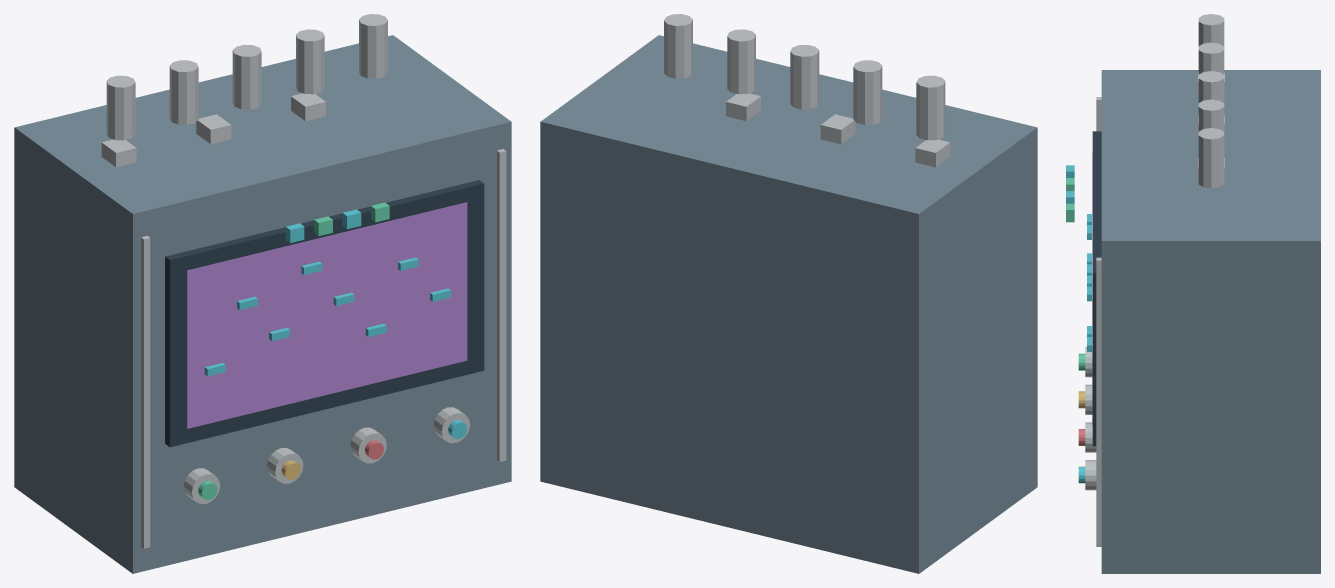
The model's file is 47_L79_BondInterfaceStressMonitor.glb.
3 renders of one model, left to right at view 1: azimuth 30°, elevation 25°; view 2: azimuth 150°, elevation 25°; view 3: azimuth 270°, elevation 25°, orthographic. The views are drawn at different scales.
Parts seen in each view (by area): view 1: BondInterfaceStressMonitor_Node_0000, BondInterfaceStressMonitor_Node_0008, BondInterfaceStressMonitor_Node_0007, BondInterfaceStressMonitor_Node_0006, BondInterfaceStressMonitor_Node_0005, BondInterfaceStressMonitor_Node_0029, BondInterfaceStressMonitor_Node_0030, BondInterfaceStressMonitor_Node_0028, BondInterfaceStressMonitor_Node_0031, BondInterfaceStressMonitor_Node_0032, BondInterfaceStressMonitor_Node_0026, BondInterfaceStressMonitor_Node_0025 (+5 smaller); view 2: BondInterfaceStressMonitor_Node_0000, BondInterfaceStressMonitor_Node_0029, BondInterfaceStressMonitor_Node_0030, BondInterfaceStressMonitor_Node_0028, BondInterfaceStressMonitor_Node_0031, BondInterfaceStressMonitor_Node_0032, BondInterfaceStressMonitor_Node_0026, BondInterfaceStressMonitor_Node_0025, BondInterfaceStressMonitor_Node_0027; view 3: BondInterfaceStressMonitor_Node_0000, BondInterfaceStressMonitor_Node_0007, BondInterfaceStressMonitor_Node_0006, BondInterfaceStressMonitor_Node_0032, BondInterfaceStressMonitor_Node_0029, BondInterfaceStressMonitor_Node_0030, BondInterfaceStressMonitor_Node_0031, BondInterfaceStressMonitor_Node_0028, BondInterfaceStressMonitor_Node_0023.
Part boxes in pixels (bbox=[...]): BondInterfaceStressMonitor_Node_0000: bbox=[14, 35, 511, 573]; BondInterfaceStressMonitor_Node_0008: bbox=[187, 202, 467, 428]; BondInterfaceStressMonitor_Node_0007: bbox=[165, 180, 484, 447]; BondInterfaceStressMonitor_Node_0006: bbox=[497, 149, 506, 461]; BondInterfaceStressMonitor_Node_0005: bbox=[141, 235, 150, 548]; BondInterfaceStressMonitor_Node_0029: bbox=[169, 60, 198, 124]; BondInterfaceStressMonitor_Node_0030: bbox=[232, 44, 261, 109]; BondInterfaceStressMonitor_Node_0028: bbox=[106, 75, 135, 140]; BondInterfaceStressMonitor_Node_0031: bbox=[296, 29, 324, 94]; BondInterfaceStressMonitor_Node_0032: bbox=[359, 14, 387, 78]; BondInterfaceStressMonitor_Node_0026: bbox=[196, 114, 231, 144]; BondInterfaceStressMonitor_Node_0025: bbox=[101, 139, 136, 167]; BondInterfaceStressMonitor_Node_0000: bbox=[540, 35, 1037, 573]; BondInterfaceStressMonitor_Node_0029: bbox=[853, 60, 882, 124]; BondInterfaceStressMonitor_Node_0030: bbox=[790, 44, 819, 109]; BondInterfaceStressMonitor_Node_0028: bbox=[916, 75, 945, 140]; BondInterfaceStressMonitor_Node_0031: bbox=[727, 29, 755, 94]; BondInterfaceStressMonitor_Node_0032: bbox=[664, 14, 692, 78]; BondInterfaceStressMonitor_Node_0026: bbox=[820, 114, 855, 144]; BondInterfaceStressMonitor_Node_0025: bbox=[915, 139, 950, 167]; BondInterfaceStressMonitor_Node_0027: bbox=[726, 93, 760, 121]; BondInterfaceStressMonitor_Node_0000: bbox=[1101, 70, 1320, 573]; BondInterfaceStressMonitor_Node_0007: bbox=[1092, 131, 1101, 446]; BondInterfaceStressMonitor_Node_0006: bbox=[1096, 257, 1101, 546]; BondInterfaceStressMonitor_Node_0032: bbox=[1198, 128, 1224, 188]; BondInterfaceStressMonitor_Node_0029: bbox=[1198, 42, 1224, 74]; BondInterfaceStressMonitor_Node_0030: bbox=[1198, 71, 1224, 102]; BondInterfaceStressMonitor_Node_0031: bbox=[1198, 99, 1224, 131]; BondInterfaceStressMonitor_Node_0028: bbox=[1198, 14, 1224, 45]; BondInterfaceStressMonitor_Node_0023: bbox=[1085, 460, 1096, 490].
Size of the model in its own units: 1.2 by 1.33 by 0.756.
